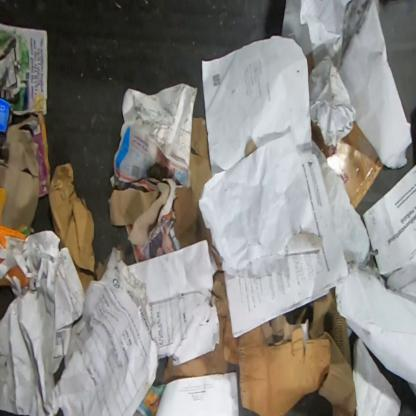cardboard: (222, 321, 332, 415), (48, 162, 111, 295), (311, 119, 384, 210), (0, 225, 32, 286)
